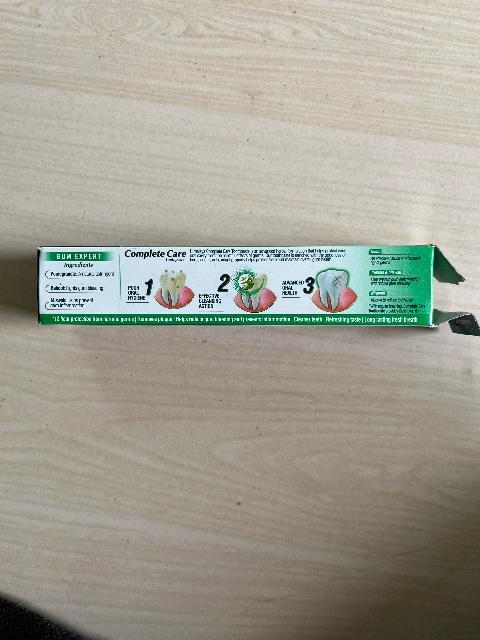himalaya toothpaste: (41, 248, 440, 324)
